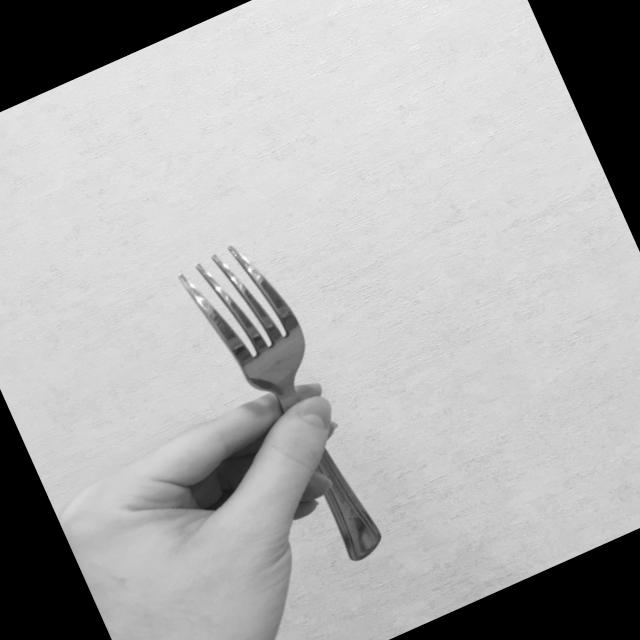fork: (170, 228, 401, 583)
